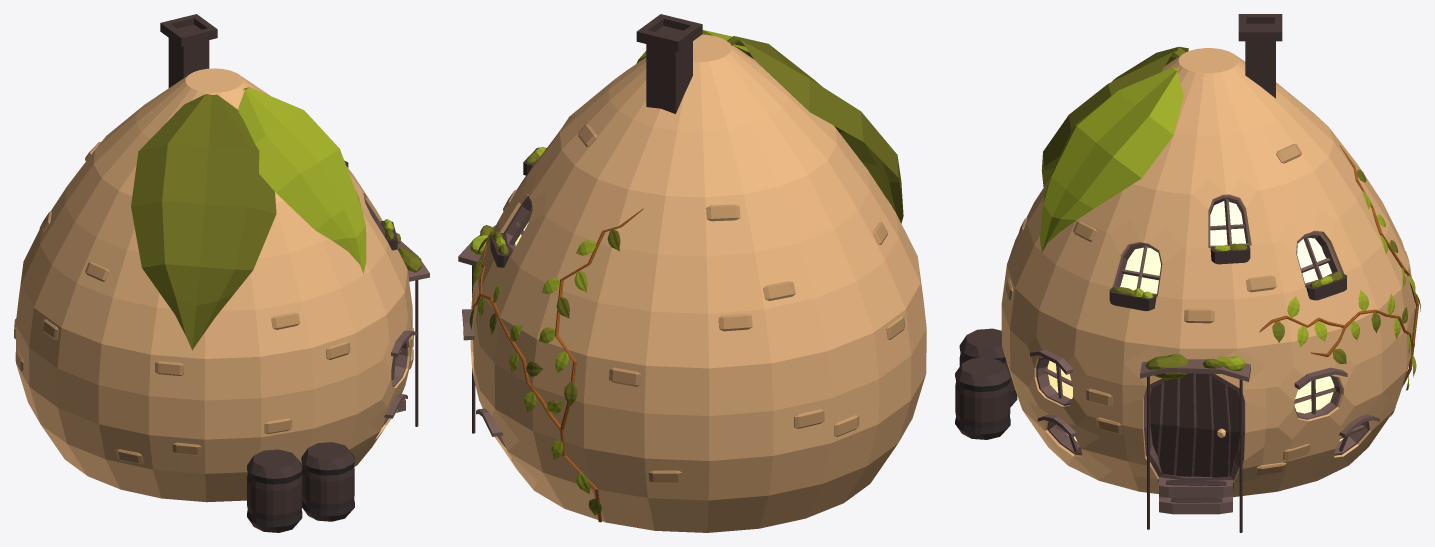
Rendered from House.glb.
The picture shows the model from 3 angles, left to right: view 1: azimuth 30°, elevation 25°; view 2: azimuth 150°, elevation 25°; view 3: azimuth 270°, elevation 25°; orthographic projection. The views are drawn at different scales.
Visible parts, largest first — view 1: house.001, leaf.044, leaf.043, Cylinder.004, Cylinder.005, Cube.009, Cube.010, Cylinder.007; view 2: house.001, leaf.044, Cube.009, Cube.010, Cylinder, Cylinder.002, Cube.028, Cube.024; view 3: house.001, leaf.043, door, Cylinder.005, leaf.044, Cube.002, Cylinder.004, Cube.009, Cube.010, house.004, house.003, Cube.013 (+8 smaller).
Boxes of the visible parts, x1,y1,x2,y2 form: house.001: (15, 68, 412, 502); leaf.044: (131, 94, 276, 350); leaf.043: (238, 87, 366, 273); Cylinder.004: (247, 449, 302, 532); Cylinder.005: (301, 442, 354, 521); Cube.009: (168, 38, 209, 87); Cube.010: (160, 14, 217, 46); Cylinder.007: (415, 280, 418, 426); house.001: (470, 34, 926, 532); leaf.044: (727, 36, 903, 223); Cube.009: (646, 41, 692, 113); Cube.010: (636, 14, 702, 51); Cylinder: (554, 208, 643, 522); Cylinder.002: (472, 292, 560, 430); Cube.028: (706, 204, 740, 221); Cube.024: (718, 313, 752, 331); house.001: (1001, 48, 1415, 497); leaf.043: (1040, 67, 1183, 252); door: (1150, 374, 1239, 477); Cylinder.005: (955, 357, 1010, 439); leaf.044: (1041, 46, 1188, 187); Cube.002: (1159, 476, 1232, 514); Cylinder.004: (959, 328, 1017, 407); Cube.009: (1245, 41, 1275, 98); Cube.010: (1238, 14, 1282, 41); house.004: (1120, 247, 1160, 293); house.003: (1210, 201, 1245, 245); Cube.013: (1140, 359, 1250, 381).
Size of the model in its own units: 15.15 by 16.19 by 16.35.
